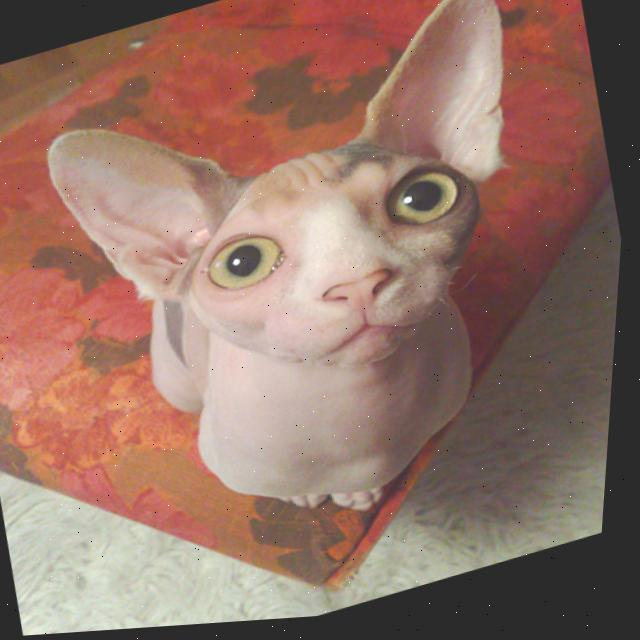Sphynx: (5, 0, 613, 601)
